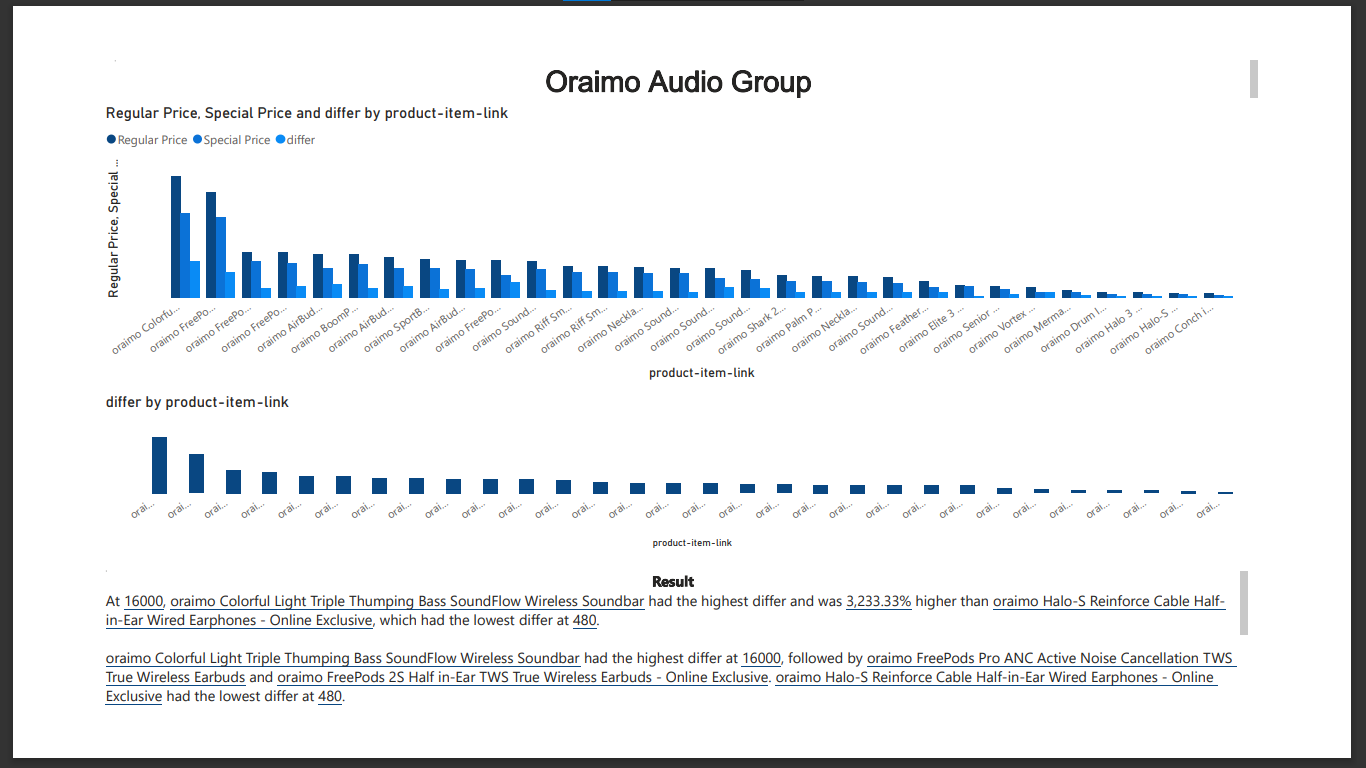

The dashboard page shown, as its layout file describes it:
{"tool":"powerbi","page":{"name":"Page 3","canvas":[1280,720],"ordinal":2},"visuals":[{"type":"textbox","box":[9.9,0,1269.5,52.1],"z":0},{"type":"clusteredColumnChart","fields":{"Category":["Audio.product-item-link"],"Y":["Sum(Audio.Regular Price)","Sum(Audio.Special Price)","Sum(Audio.differ)"]},"box":[0,52.1,1268.1,308.6],"z":1},{"type":"ribbonChart","fields":{"Category":["Audio.product-item-link"],"Y":["Sum(Audio.differ)"]},"box":[0,370.6,1268.1,176.1],"z":2},{"type":"textbox","box":[0,562.2,1268.1,157.8],"z":3}]}

Visuals, with their boxes in screenshot pixels (x1, y1, x2, y2), scaled from the page's 1280x720 canvas onto the 1366x768 screenshot:
textbox: 11:0:1365:56
clusteredColumnChart - Audio.product-item-link x Sum(Audio.Regular Price): 0:56:1353:385
ribbonChart - Audio.product-item-link x Sum(Audio.differ): 0:395:1353:583
textbox: 0:600:1353:767
